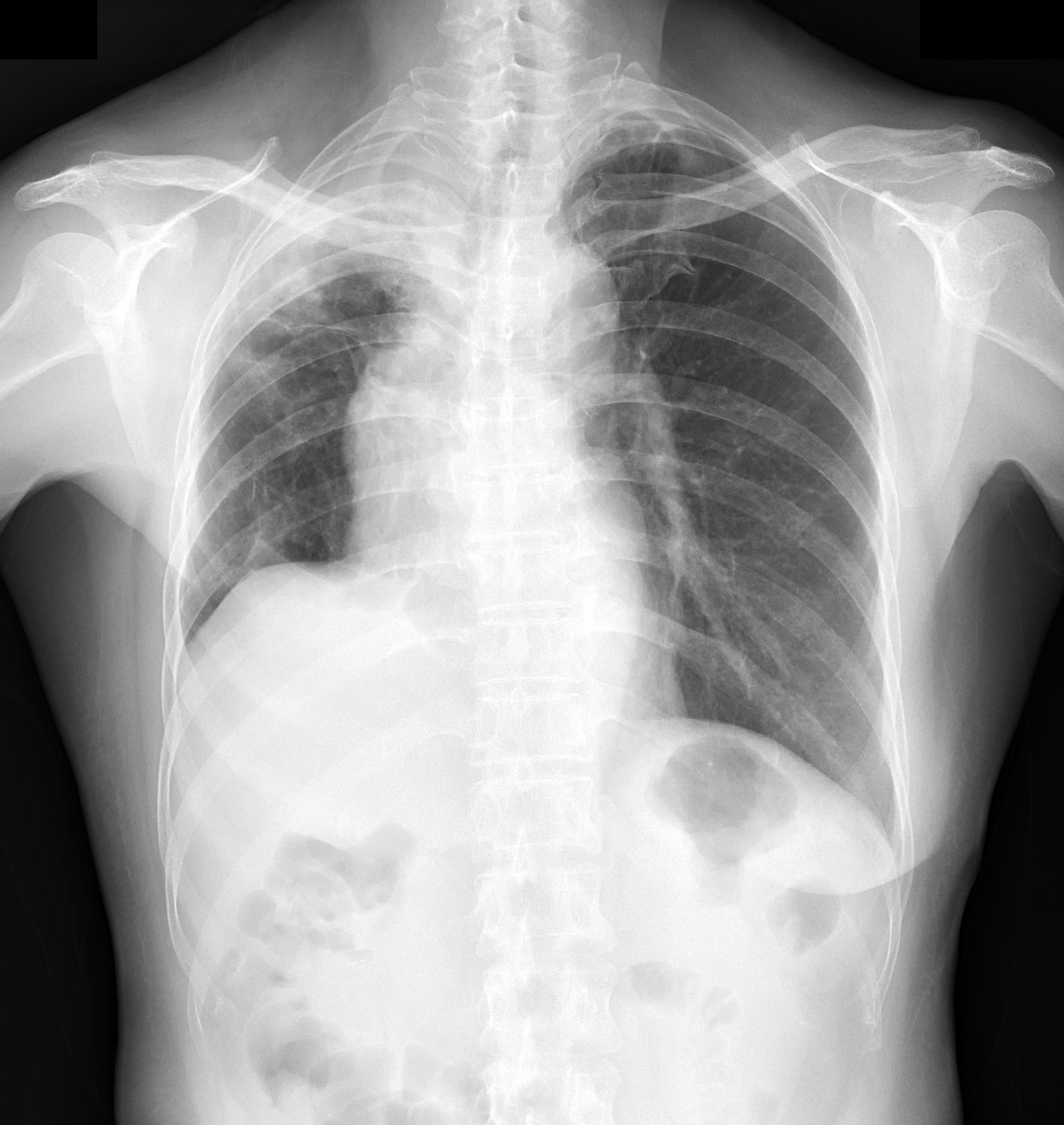Pleural thickening: (193, 149, 482, 367)
Pulmonary fibrosis: (265, 243, 419, 333)
